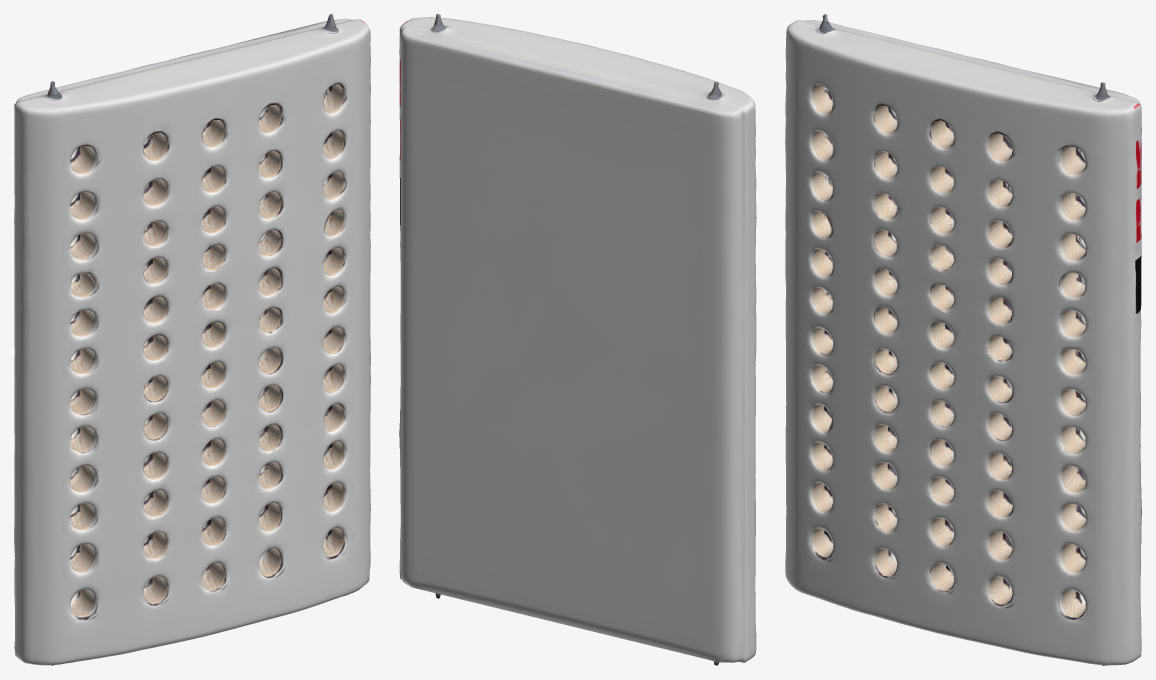
Rendered from UBody-300-Pro-2.glb.
3 views of the same model, side by side, from view 1: azimuth 30°, elevation 25°; view 2: azimuth 150°, elevation 25°; view 3: azimuth 330°, elevation 25° (orthographic).
Visible parts, largest first — view 1: model; view 2: model; view 3: model.
Boxes of the visible parts, box(x1,y1,x2,y2) form: model: box(14, 14, 370, 665); model: box(399, 14, 756, 665); model: box(785, 14, 1141, 665).
Size of the model in its own units: 1.19 by 1.9 by 0.2104.
Materials: 1 (1 with a texture image).
